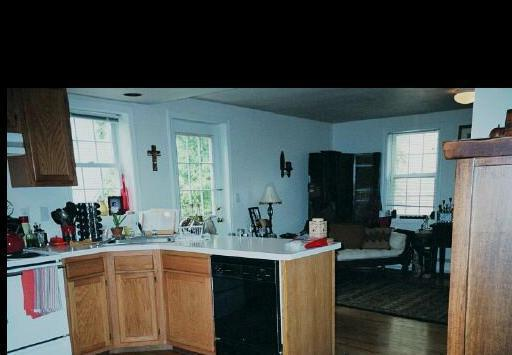Armario: (447, 140, 512, 355)
Electrodomestico: (211, 255, 284, 355), (10, 257, 72, 355)
